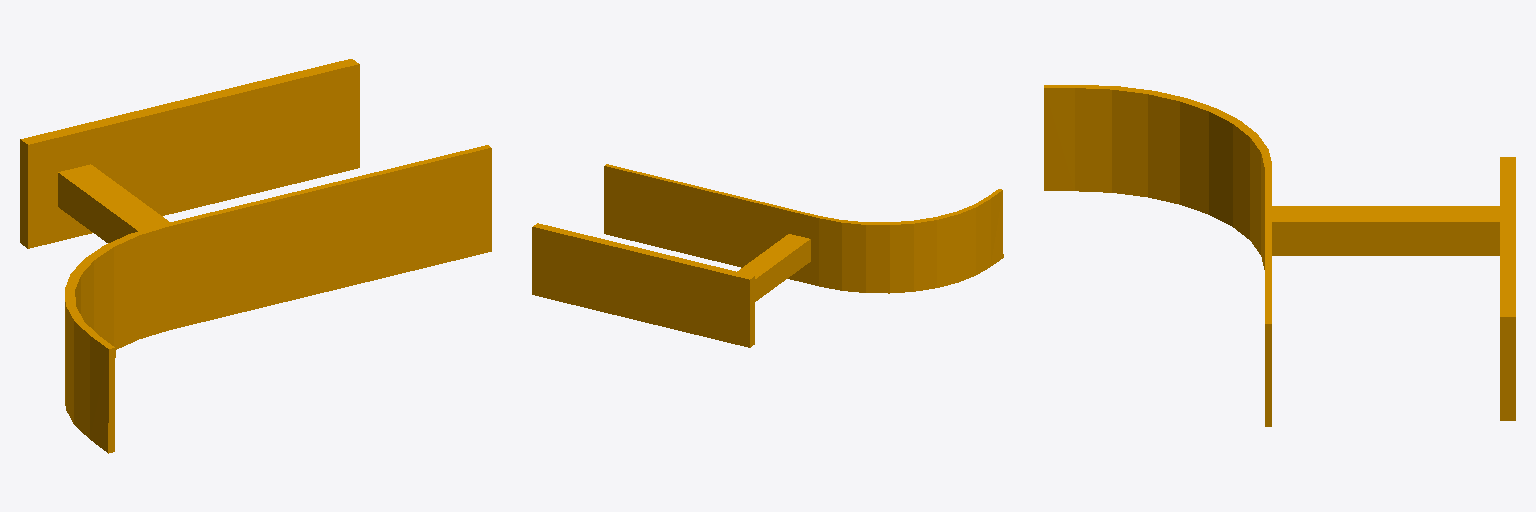
robot.urdf — fixed_caser_v1:
<?xml version="1.0"?>
<robot name="fixed_caser_v1">
 
    <link name="base_link">
        <visual>   <geometry> <mesh filename="fixed_caser_1.dae"/> </geometry> </visual>
        <collision><geometry> <mesh filename="fixed_caser_1.dae"/> </geometry> </collision>

        <visual>   <geometry> <mesh filename="fixed_caser_3.dae"/> </geometry> </visual>
        <collision><geometry> <mesh filename="fixed_caser_3.dae"/> </geometry> </collision>

        <visual>   <geometry> <mesh filename="fixed_caser_4_1.dae"/> </geometry> </visual>
        
        
        <visual>   <geometry> <mesh filename="fixed_caser_4_2.dae"/> </geometry> </visual>
        <collision><geometry> <mesh filename="fixed_caser_4_2.dae"/> </geometry> </collision>

        <visual>   <geometry> <mesh filename="fixed_caser_4_3.dae"/> </geometry> </visual>
        <collision><geometry> <mesh filename="fixed_caser_4_3.dae"/> </geometry> </collision>

        <visual>   <geometry> <mesh filename="fixed_caser_4_4.dae"/> </geometry> </visual>
        <collision><geometry> <mesh filename="fixed_caser_4_4.dae"/> </geometry> </collision>

        <visual>   <geometry> <mesh filename="fixed_caser_4_5.dae"/> </geometry> </visual>
        <collision><geometry> <mesh filename="fixed_caser_4_5.dae"/> </geometry> </collision>

        <visual>   <geometry> <mesh filename="fixed_caser_4_6.dae"/> </geometry> </visual>
        <collision><geometry> <mesh filename="fixed_caser_4_6.dae"/> </geometry> </collision>

        <visual>   <geometry> <mesh filename="fixed_caser_4_7.dae"/> </geometry> </visual>
        <collision><geometry> <mesh filename="fixed_caser_4_7.dae"/> </geometry> </collision>

        <visual>   <geometry> <mesh filename="fixed_caser_4_8.dae"/> </geometry> </visual>
        <collision><geometry> <mesh filename="fixed_caser_4_8.dae"/> </geometry> </collision>

        <visual>   <geometry> <mesh filename="fixed_caser_4_9.dae"/> </geometry> </visual>
        <collision><geometry> <mesh filename="fixed_caser_4_9.dae"/> </geometry> </collision>

        <visual>   <geometry> <mesh filename="fixed_caser_4_10.dae"/> </geometry> </visual>
        <collision><geometry> <mesh filename="fixed_caser_4_10.dae"/> </geometry> </collision>

        <inertial>
            <origin xyz="0 0 0" rpy="0 0 0"/>
            <mass value="1.0"/>
            <inertia ixx="0.1" ixy="0.0" ixz="0.0" iyy="0.1" iyz="0.0" izz="0.1"/>
        </inertial>

 </link>
 
</robot>

--- What the picture shows (computed from the rendered views, not written in the file) ---
Views: 3 orthographic renders of the robot side by side, from view 1: azimuth 30°, elevation 25°; view 2: azimuth 150°, elevation 25°; view 3: azimuth 270°, elevation 25°.
Model fixed_caser_v1 with 1 links and 0 joints (none), rooted at base_link, posed all joints at 0.
Visible links, largest first — view 1: base_link; view 2: base_link; view 3: base_link.
Link boxes in pixels (box(x1,y1,x2,y2)): base_link: box(20, 59, 491, 453); base_link: box(532, 164, 1003, 347); base_link: box(1044, 85, 1515, 426).
Bounding box of the posed robot: 0.7454 × 0.62 × 0.15 m (x, y, z).
12 mesh visuals loaded from 12 distinct referenced files (12 Collada DAE).
